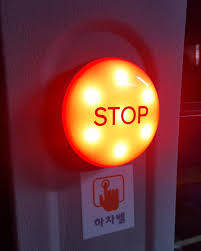bell: (57, 52, 166, 171)
